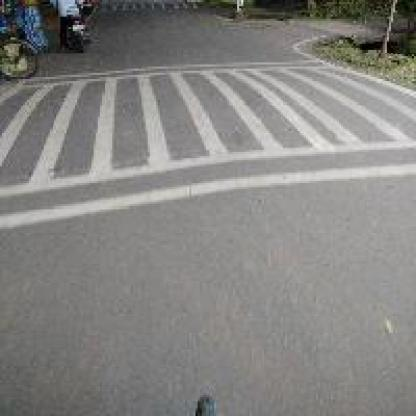Speed Bump: (0, 60, 410, 233)
